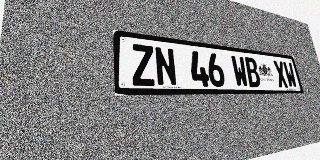4: (188, 50, 210, 87)
6: (205, 52, 226, 87)
B: (244, 57, 262, 87)
N: (154, 46, 178, 86)
W: (230, 55, 249, 87), (282, 61, 298, 88)
X: (273, 60, 289, 88)
Z: (130, 43, 156, 86)
